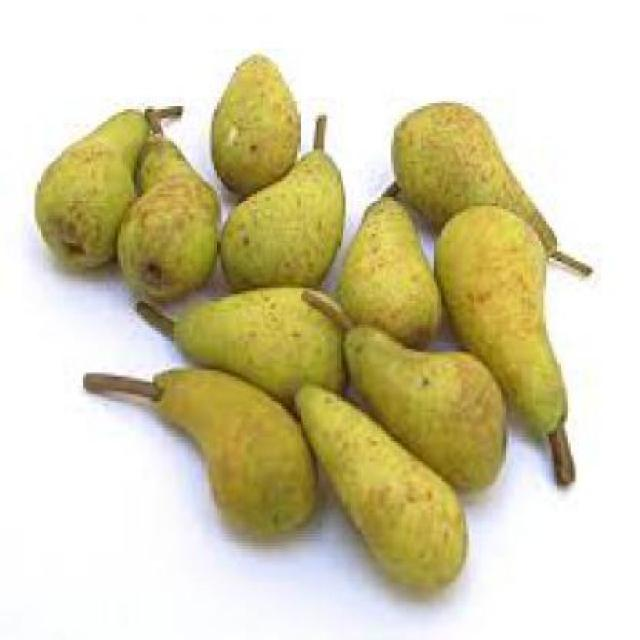BIODEGRADABLE: (80, 368, 318, 534), (292, 386, 466, 588), (332, 308, 503, 494), (433, 203, 562, 446), (391, 100, 554, 254), (136, 297, 349, 397), (217, 146, 340, 292), (121, 115, 216, 298), (32, 106, 137, 268), (340, 188, 440, 340), (214, 49, 292, 182)
